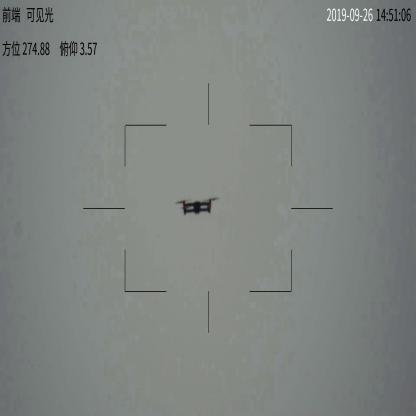uav: (176, 194, 220, 217)
